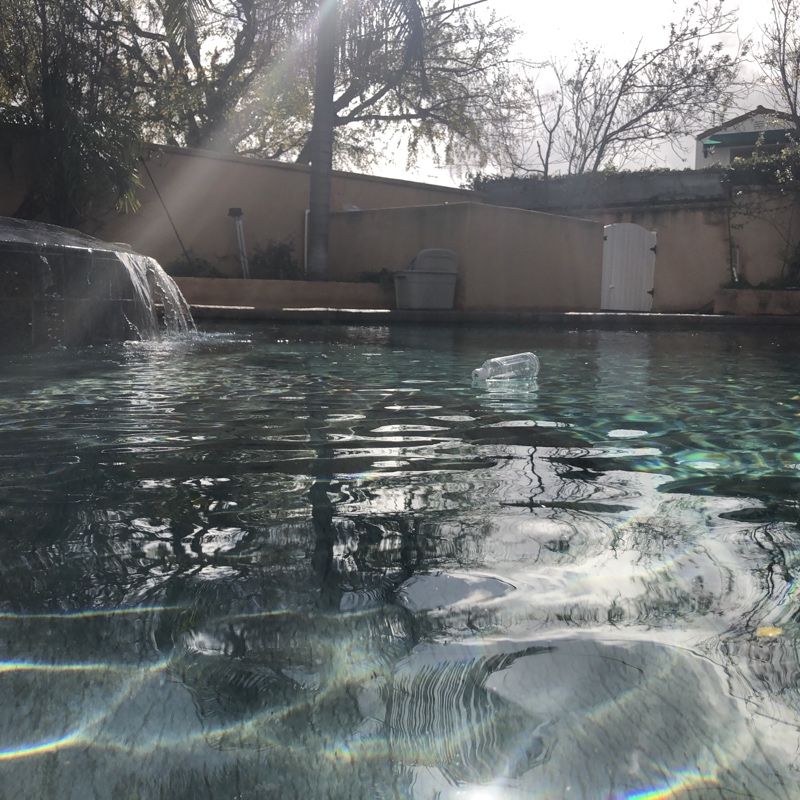Plastic Bottle: (468, 348, 544, 390)
